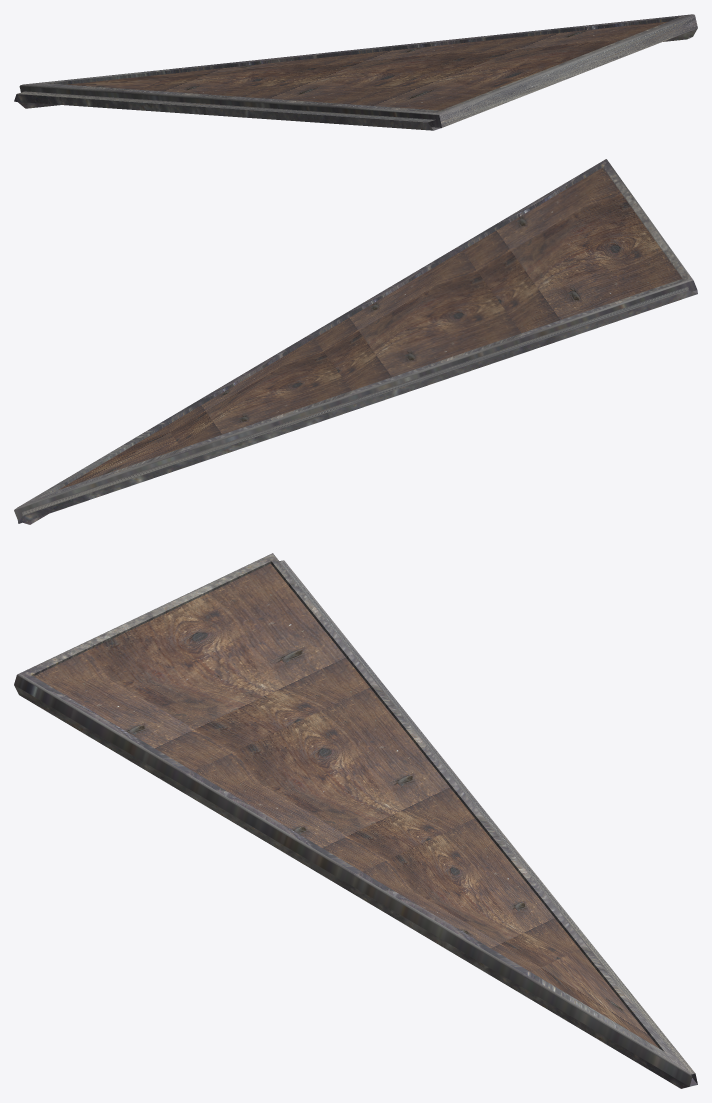
File: stair.fbx
3 views of the same model, one above another, from view 1: azimuth 90°, elevation 25°; view 2: azimuth 150°, elevation 25°; view 3: azimuth 270°, elevation 25° (orthographic). The views are drawn at different scales.
Visible parts, largest first — view 1: Spiral_Stairs.002; view 2: Spiral_Stairs.002; view 3: Spiral_Stairs.002.
Boxes of the visible parts, x1,y1,x2,y2 form: Spiral_Stairs.002: (14, 14, 697, 130); Spiral_Stairs.002: (14, 159, 697, 524); Spiral_Stairs.002: (14, 553, 697, 1088).
Size of the model in its own units: 80.48 by 35.41 by 83.07.
Materials: 2 (2 with a texture image).
